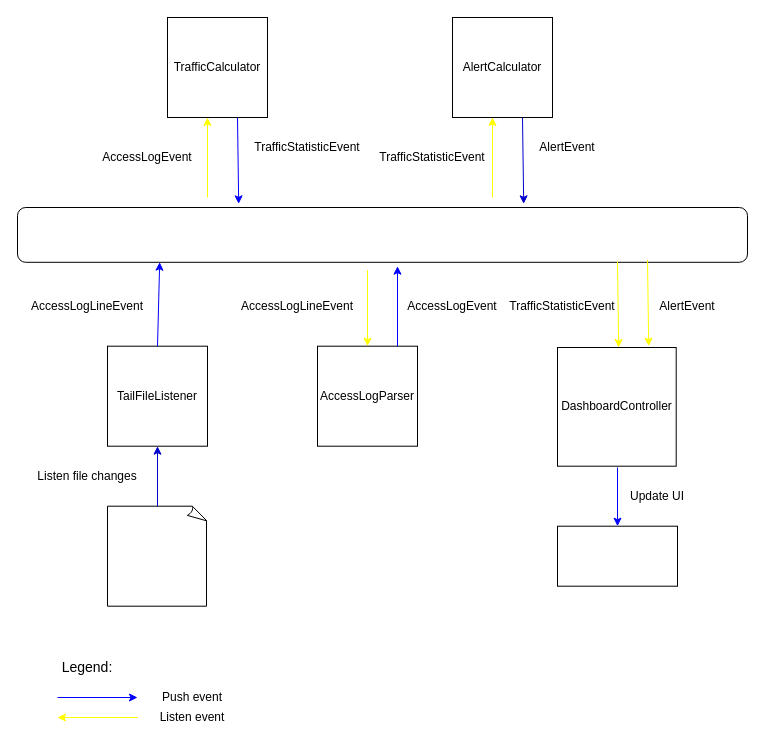
Image size: 765x745. Some labels were removed from this diagram. Here are the shapes that lost their labels. From the top down, the centre of each, then its label:
At point 382,234: "EventBus".
At point 157,555: "File".
At point 617,555: "UI".
